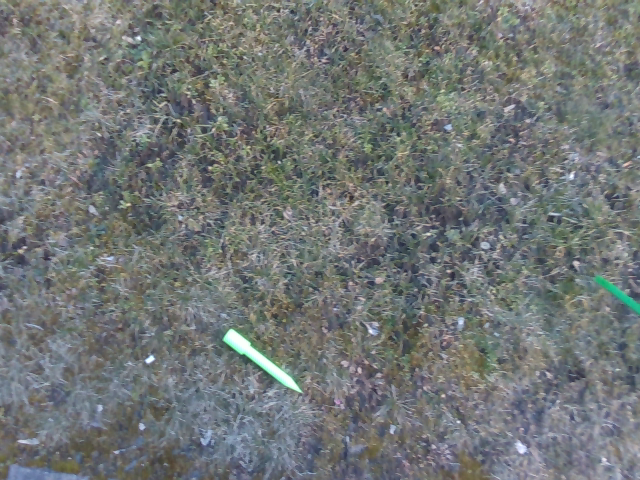Probe: (218, 326, 307, 398)
